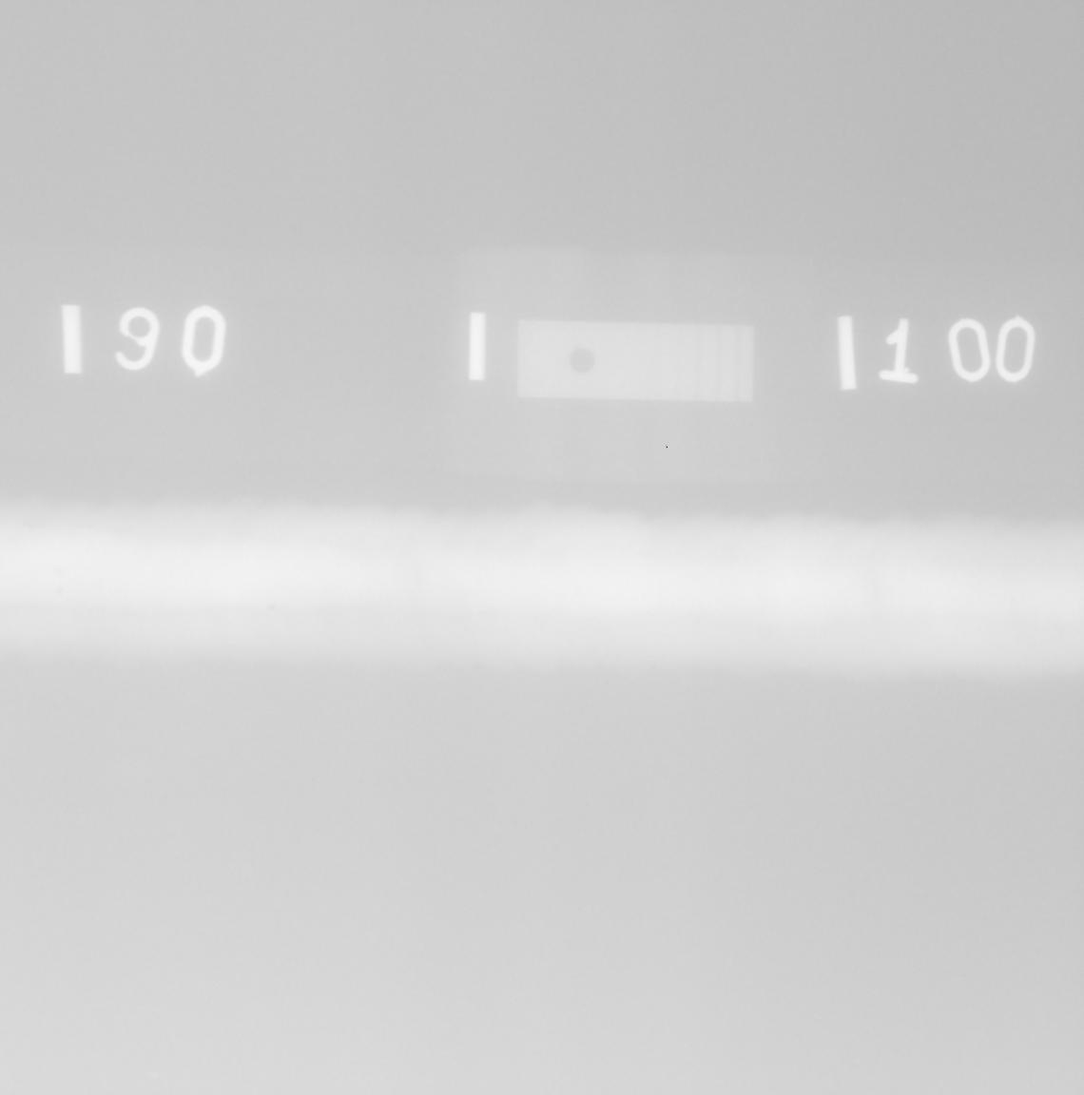Pore/Porosity: (55, 587, 65, 596), (55, 565, 64, 574), (266, 604, 275, 611), (897, 578, 905, 583)
Reference Standard 1: (517, 319, 754, 403)
